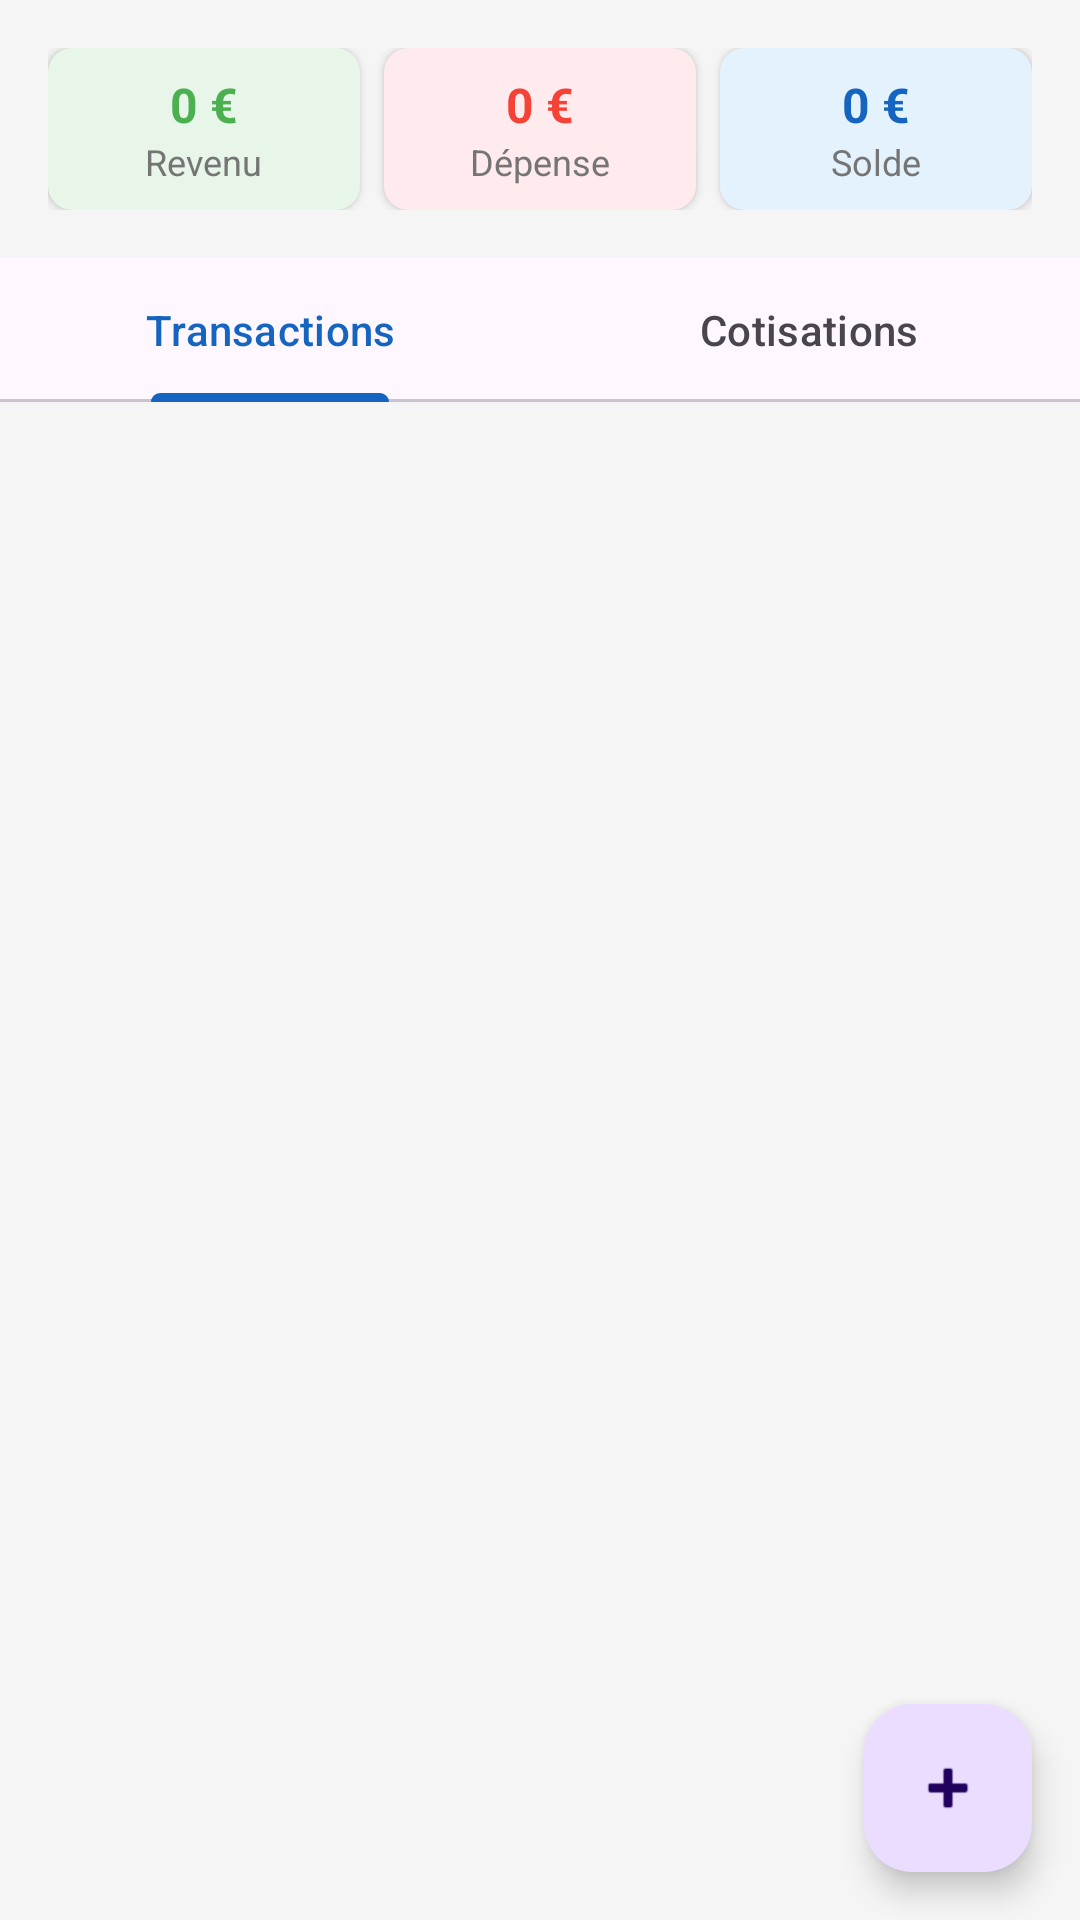

Where icons sit on this 1080*1920 app screen, as region(x1, y1, x2, y2):
Nouvelle transaction: region(864, 1704, 1032, 1872)
